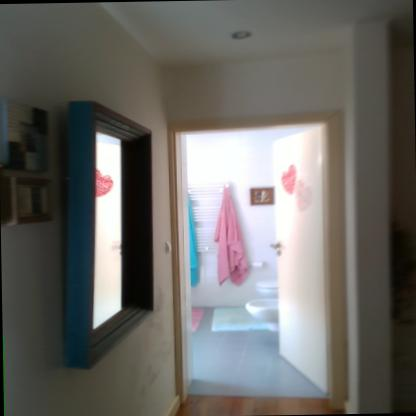open: (153, 88, 369, 415)
